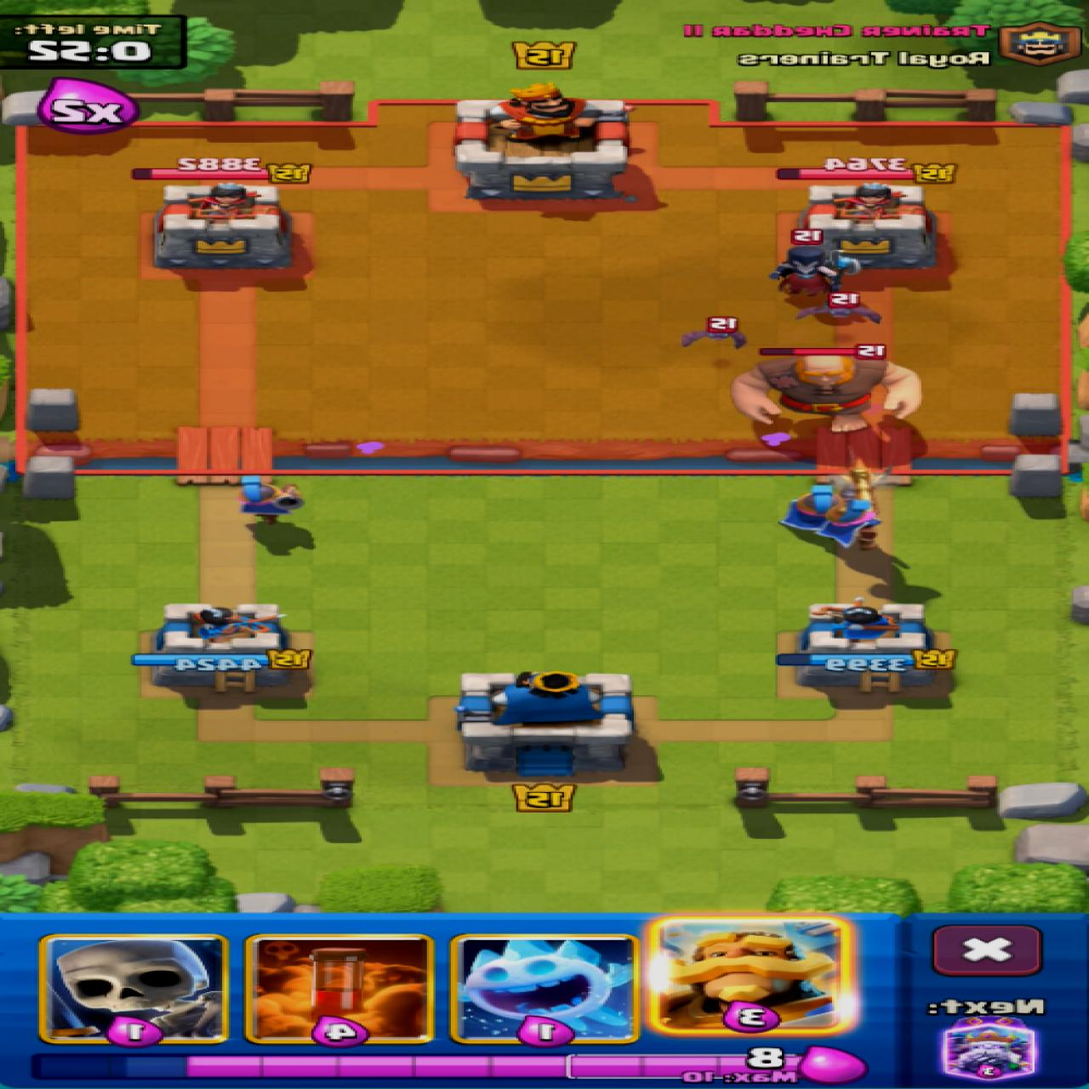Enemy-Bat: (799, 293, 882, 323), (684, 319, 745, 346)
Enemy-Giant: (736, 355, 919, 431)
Enemy-KingTower: (457, 82, 629, 198)
Enemy-NightWitch: (771, 245, 860, 295)
Enemy-PrincessTower: (797, 179, 937, 267), (155, 184, 292, 270)
